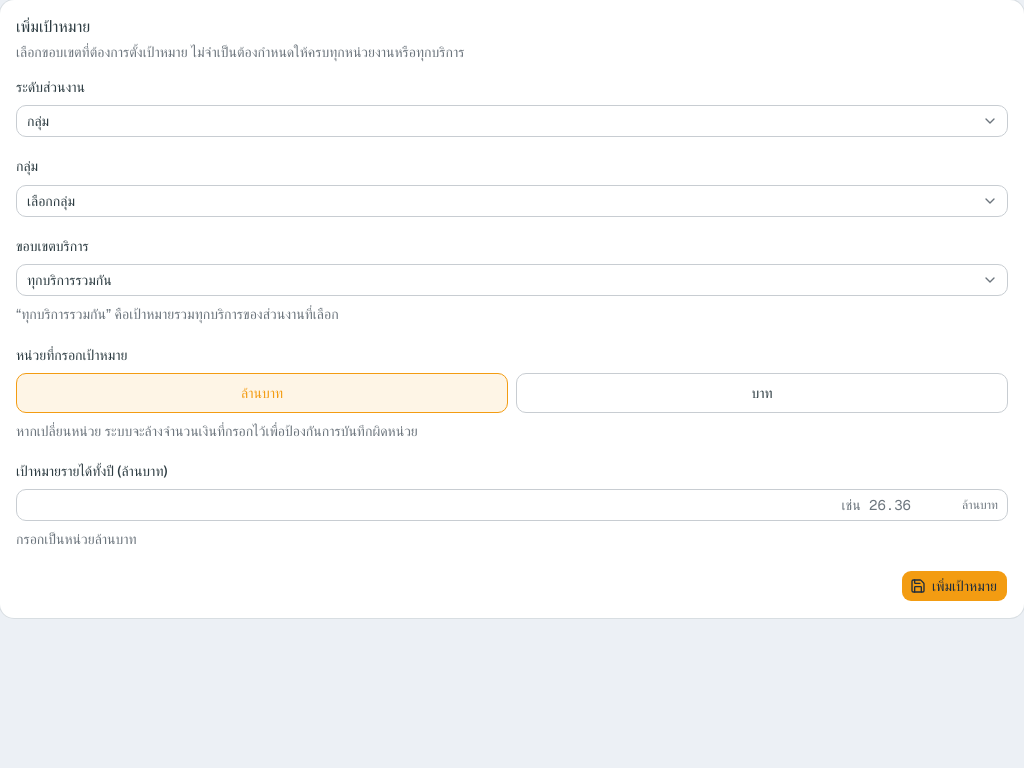
it: RevenueTargetForm › lets the user enter baht and previews the equivalent million-baht value
Click the radio button labelled "บาท" at (762, 393), box left=516, top=373, right=1008, bottom=413
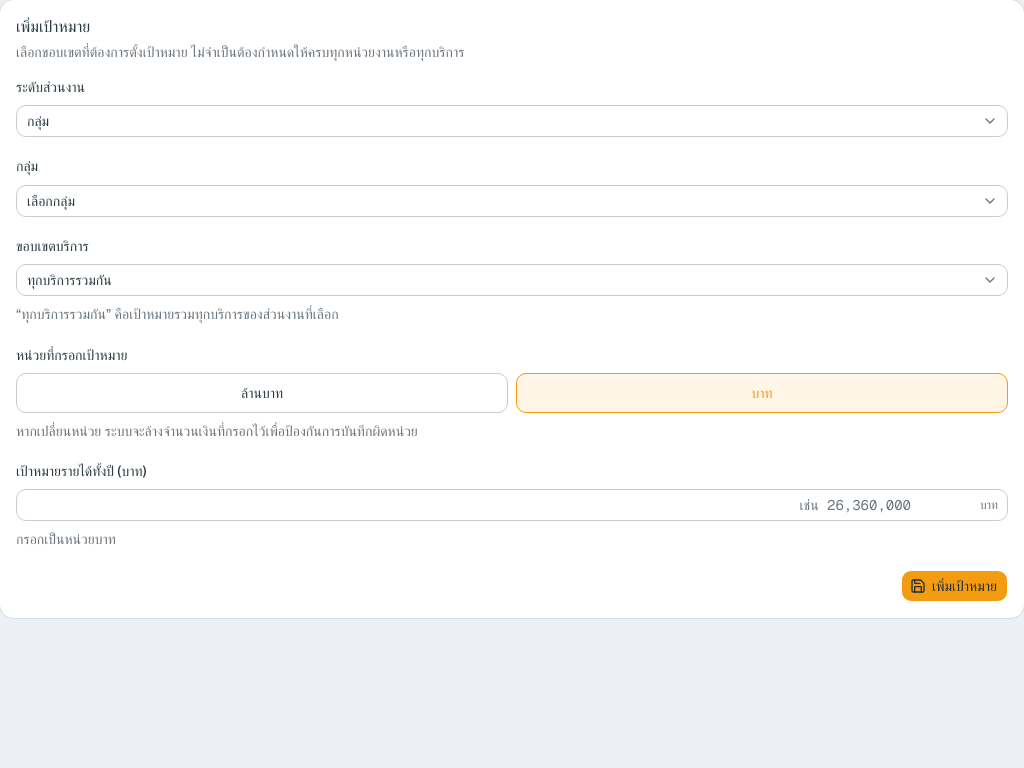
Type "26,360,000" into the field labelled "เป้าหมายรายได้ทั้งปี (บาท)" at (512, 505), box left=16, top=489, right=1008, bottom=521
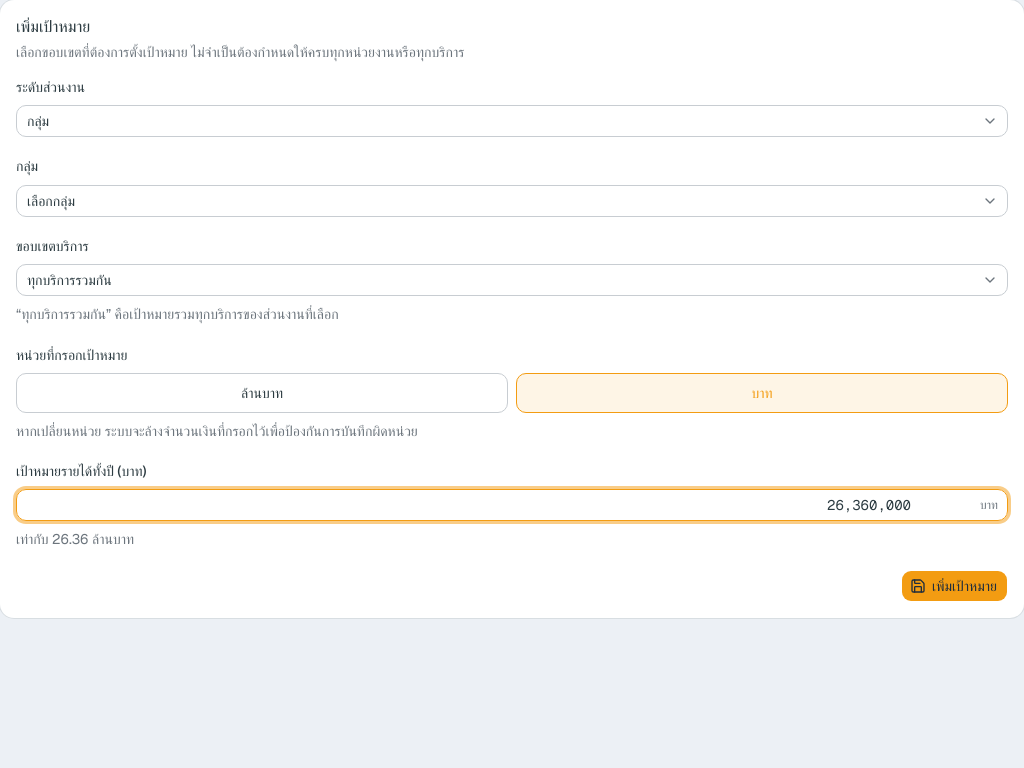
Now the text "เท่ากับ 26.36 ล้านบาท" is shown, box left=16, top=530, right=134, bottom=548
